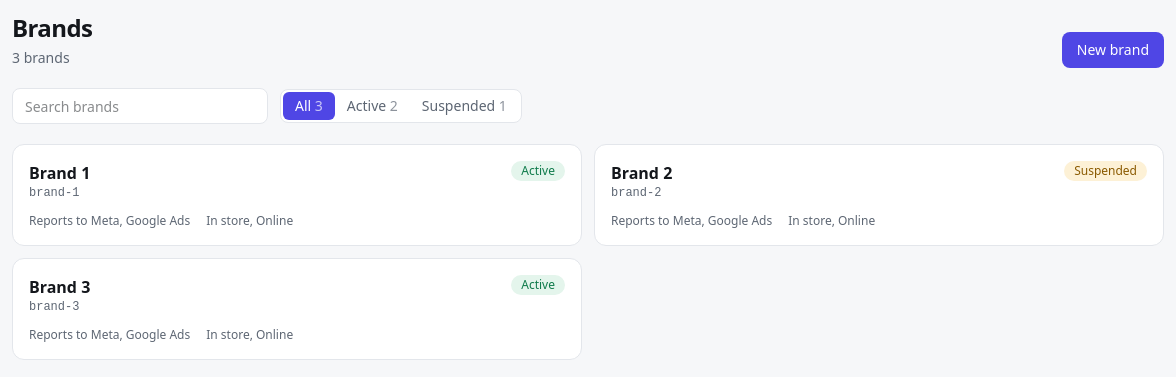
finding a brand › the status filter appears only when there is more than one status, with counts
Check: the heading "Brands" is shown, box [12,12,92,44]
Check: the button "All 3" is shown, box [283,92,335,120]
Click the button "Suspended 1" at coordinates (464, 106), box [410,92,519,120]
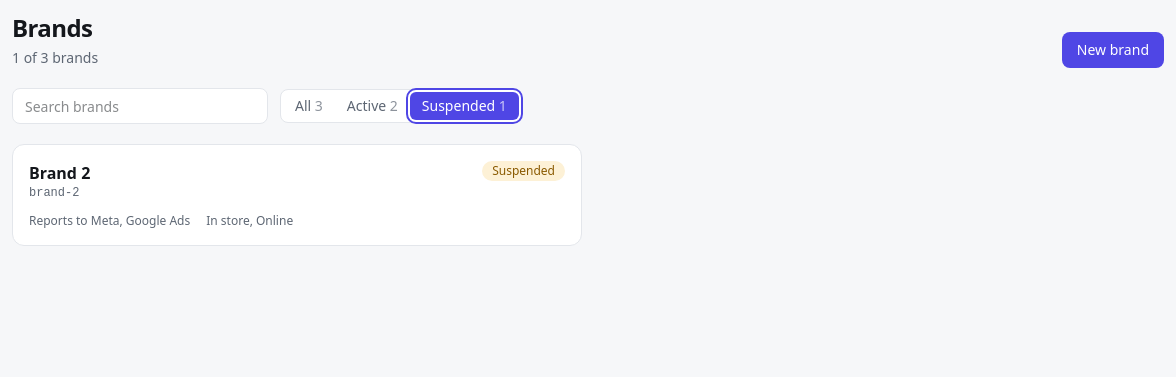
Check: the text "Brand 2" is shown, box [29,161,90,185]
Check: the link "Brand 1" is gone
Check: the message reads "1 of 3 brands", box [12,48,98,67]
